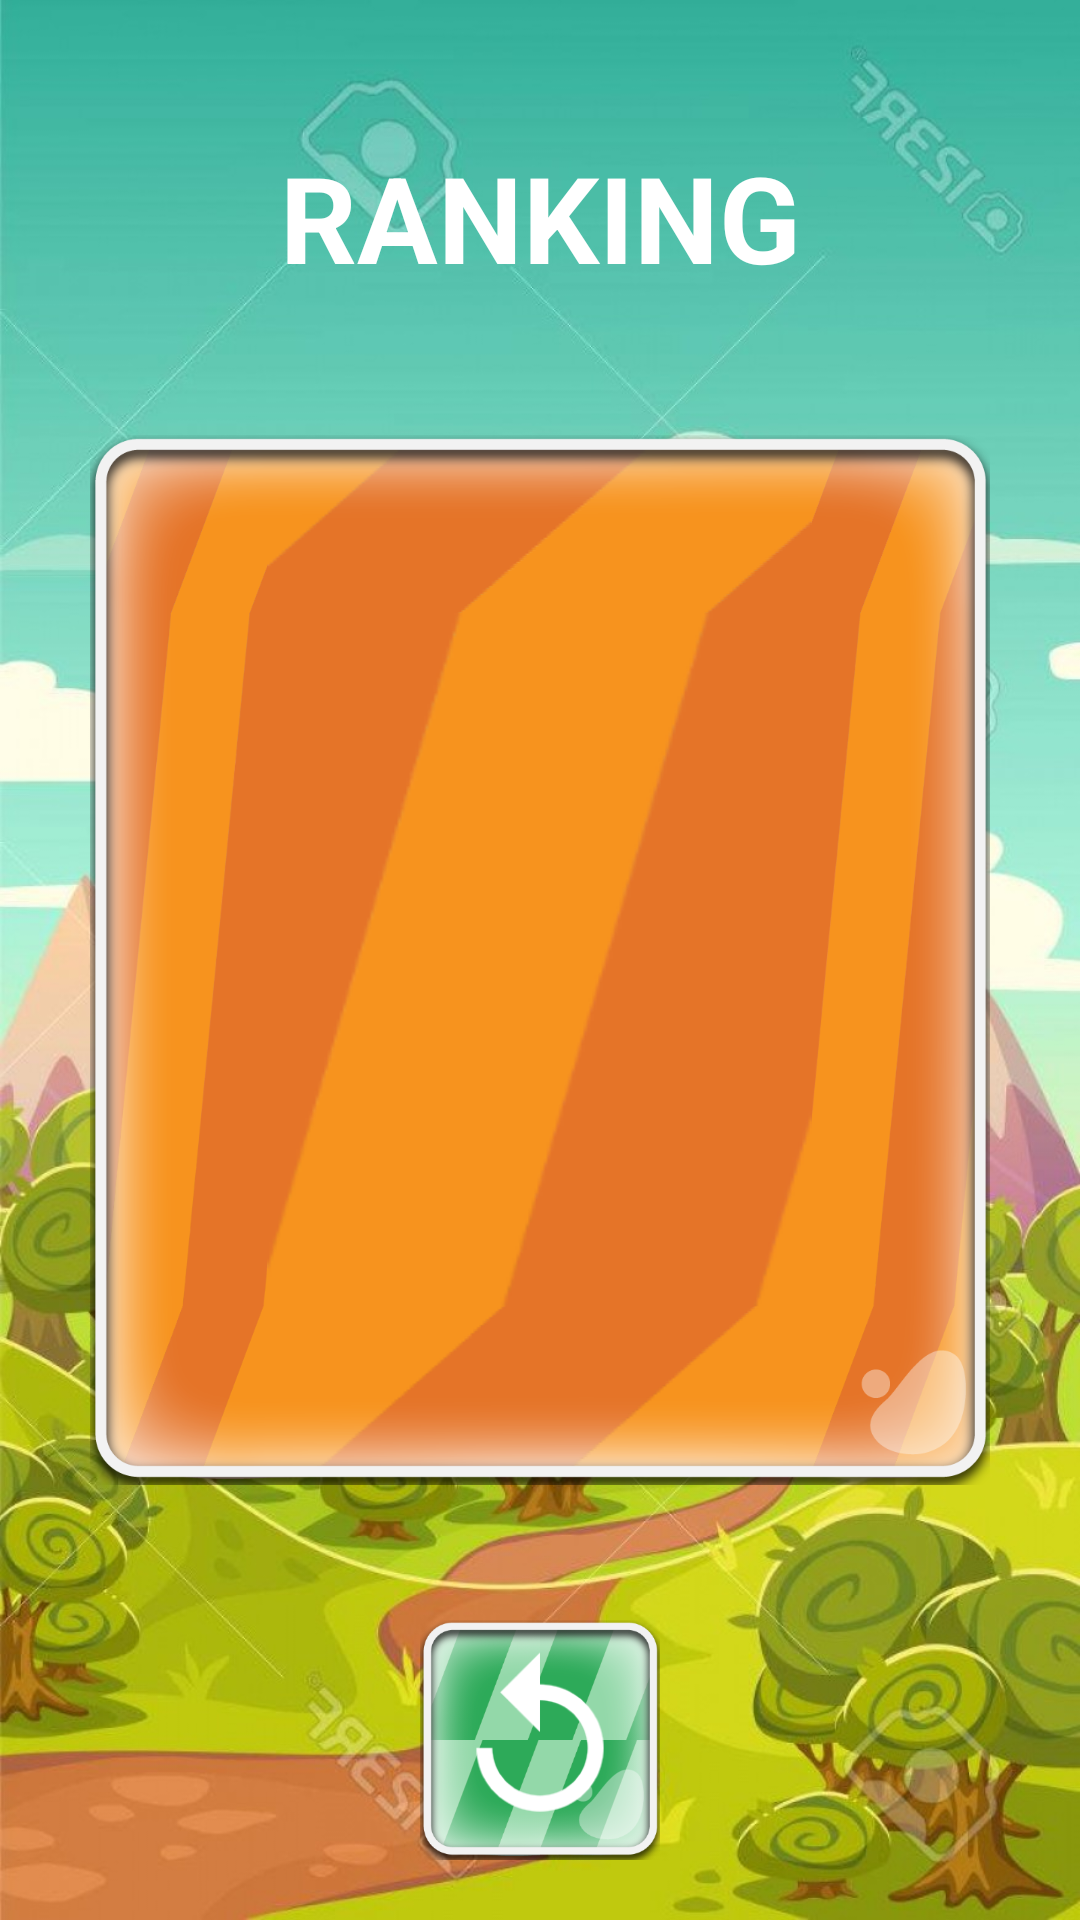

Icon click points for this 1080px×1920px phone screenshot, format point (x, y):
av replay: point (540, 1740)
